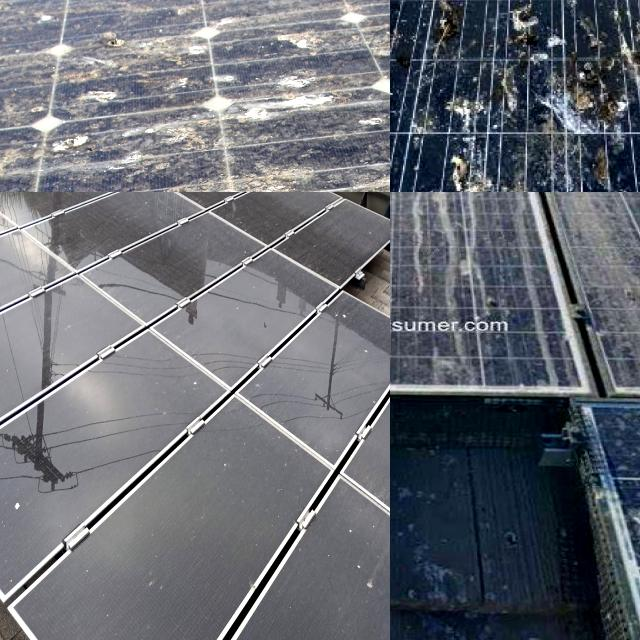bird: (533, 192, 640, 379), (390, 192, 509, 325), (118, 124, 336, 192), (390, 192, 432, 352), (448, 137, 516, 192), (413, 192, 531, 221), (511, 3, 556, 77), (589, 22, 640, 77), (390, 0, 423, 85), (418, 0, 497, 34), (421, 6, 466, 65), (390, 203, 404, 337), (390, 2, 422, 52), (584, 0, 640, 24), (530, 0, 573, 30), (442, 0, 481, 31), (579, 0, 631, 23), (390, 0, 415, 34), (390, 0, 415, 33), (390, 192, 407, 230)
dust: (66, 352, 202, 502), (88, 536, 213, 640), (238, 397, 318, 521), (332, 519, 390, 640), (0, 423, 48, 556), (123, 192, 199, 271)
